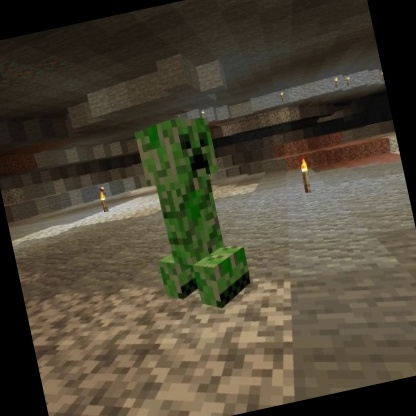creeper: (127, 105, 259, 323)
